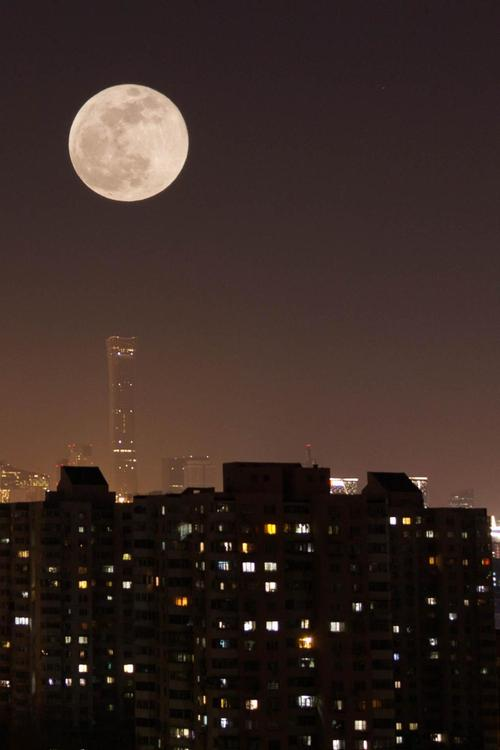moon: (67, 84, 189, 202)
